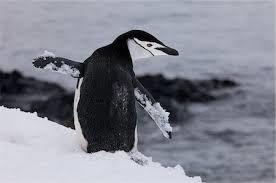chinstrap: (32, 22, 187, 159)
